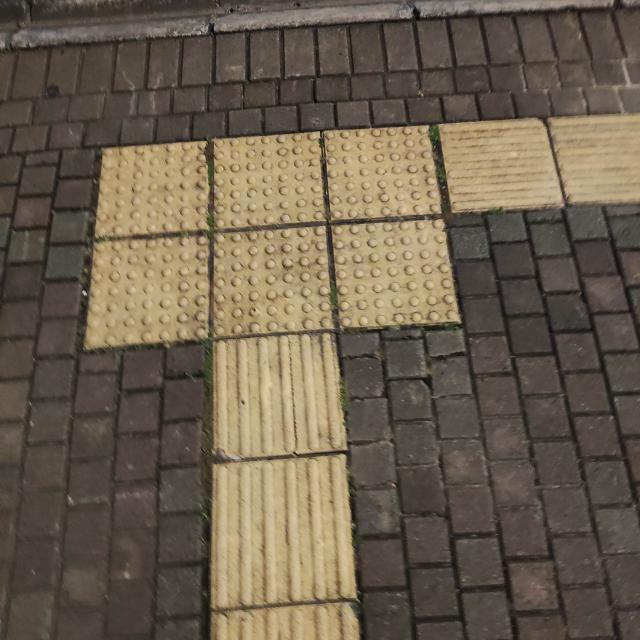kanan: (127, 96, 640, 388)
